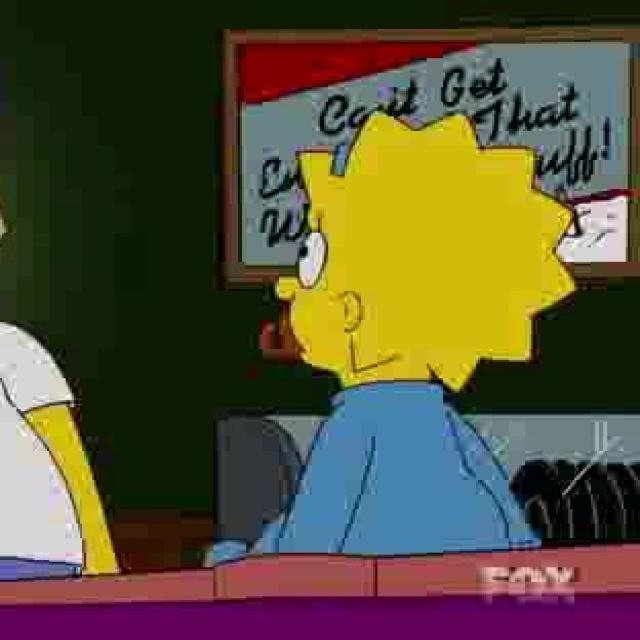Maggie Simpson: (262, 106, 580, 399)
